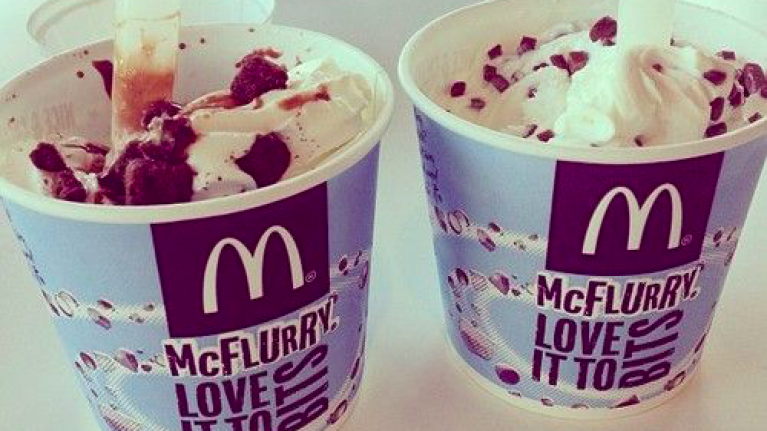mcdonalds: (201, 221, 308, 313), (579, 181, 687, 259)
